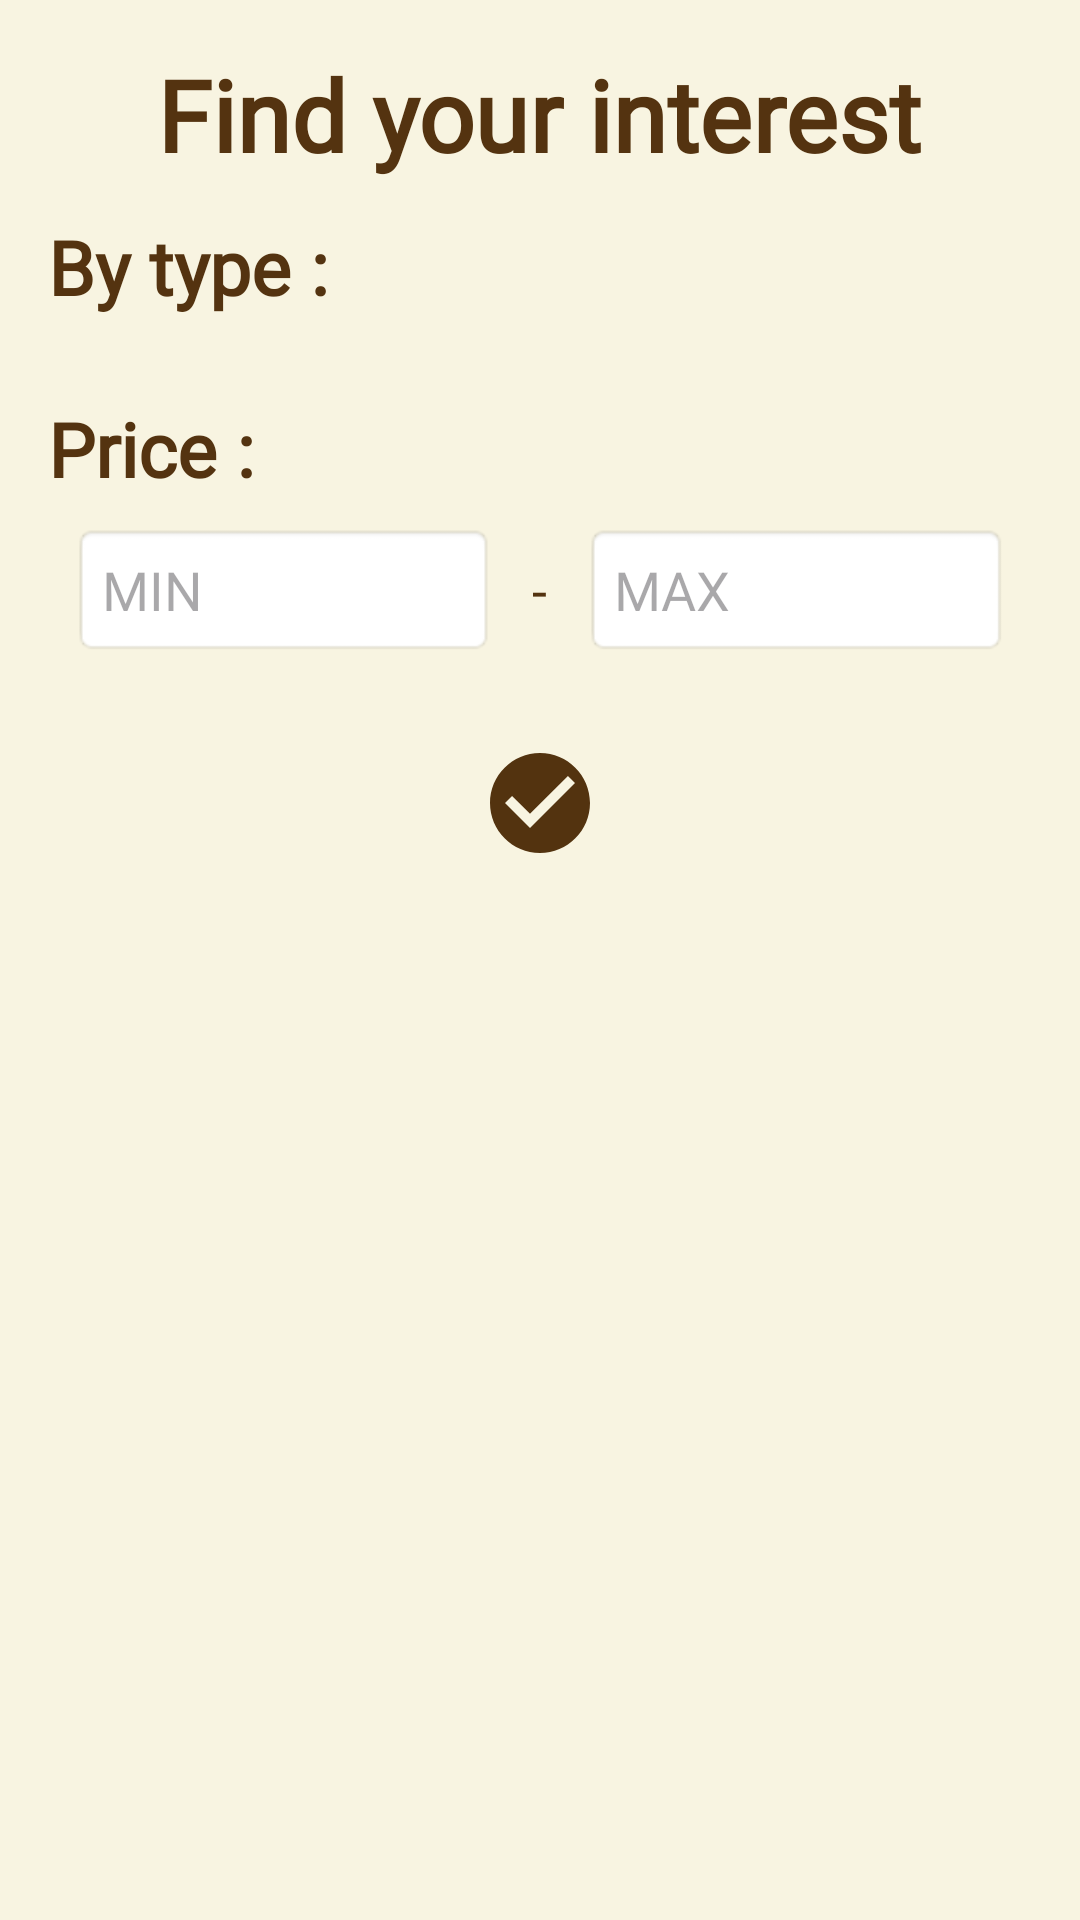

Icons on this 1080x1920 Android screen, each with its box as BBox(x1, y1, x2, y2):
check: BBox(490, 753, 590, 853)
